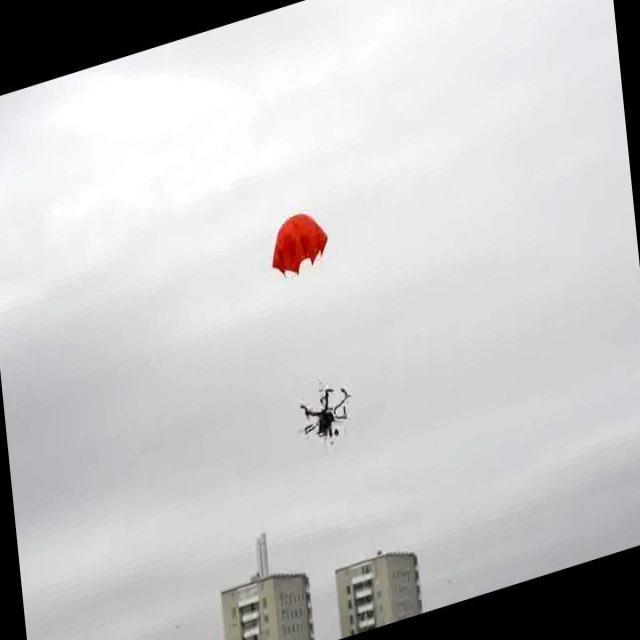drone: (296, 378, 354, 458)
